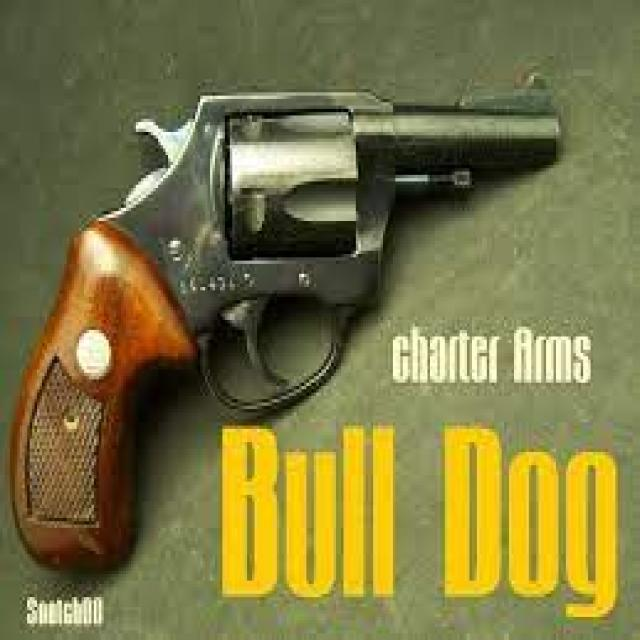Gun: (0, 71, 607, 578)
